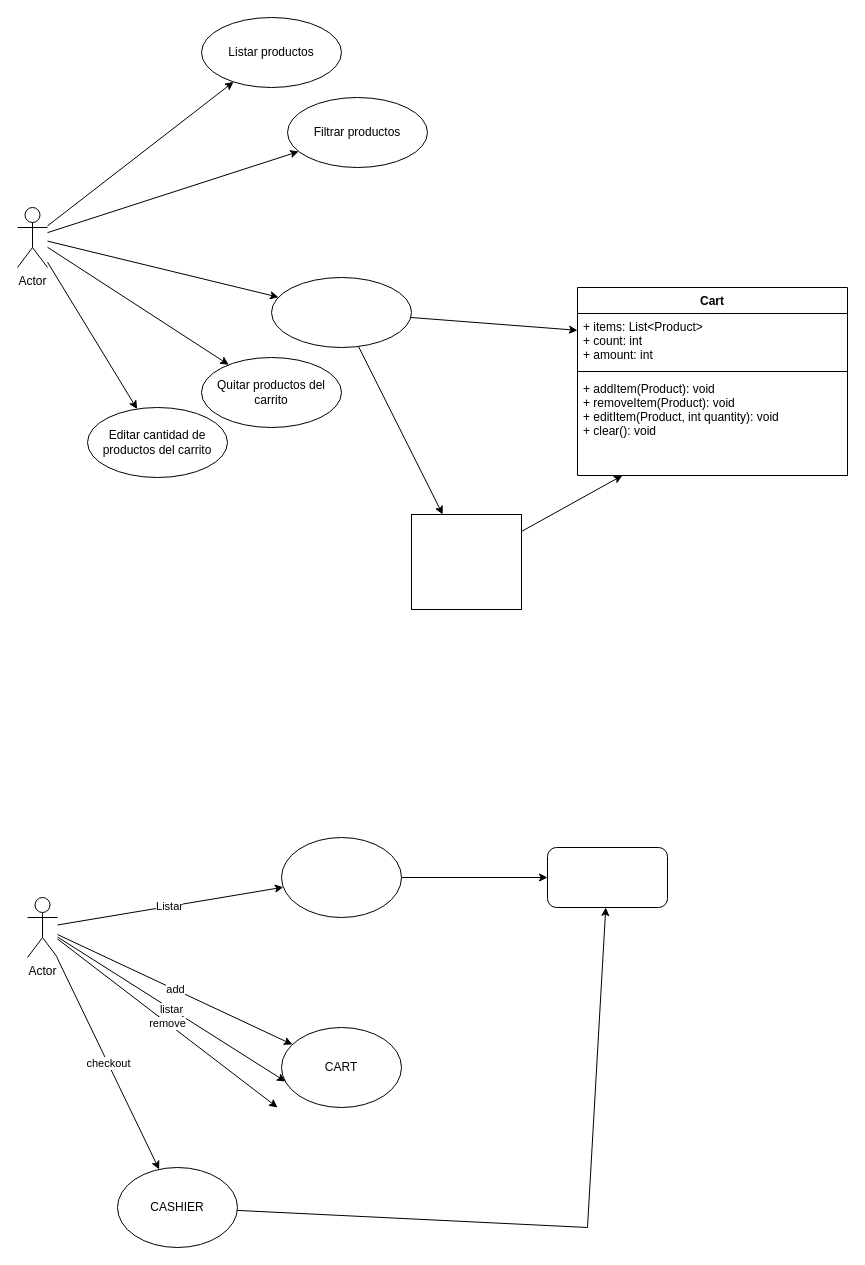
Some shapes in this 865 by 1265 pixel diagram are drawn without their labels. Each missing label, with the centre of its shape:
"Agregar producto al carrito" goes at (341,312).
"CartRepository - save - find" goes at (466,562).
"PRODUCTOS" goes at (607,877).
"RACK" goes at (341,877).
